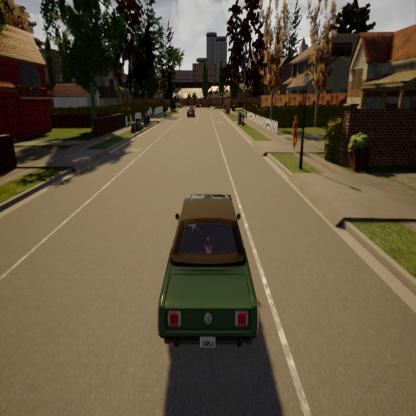Cars: (157, 193, 259, 354), (188, 105, 195, 117)
Pedestrian: (292, 114, 298, 153)
